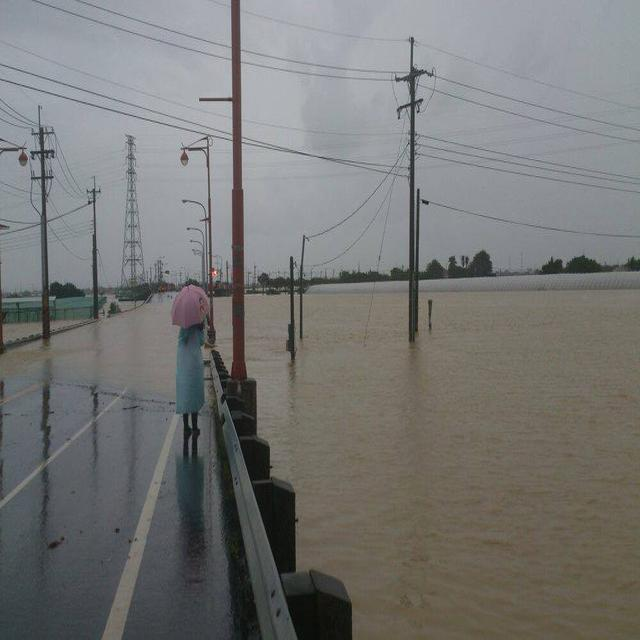Person-RiskLevel1: (148, 276, 226, 455)
